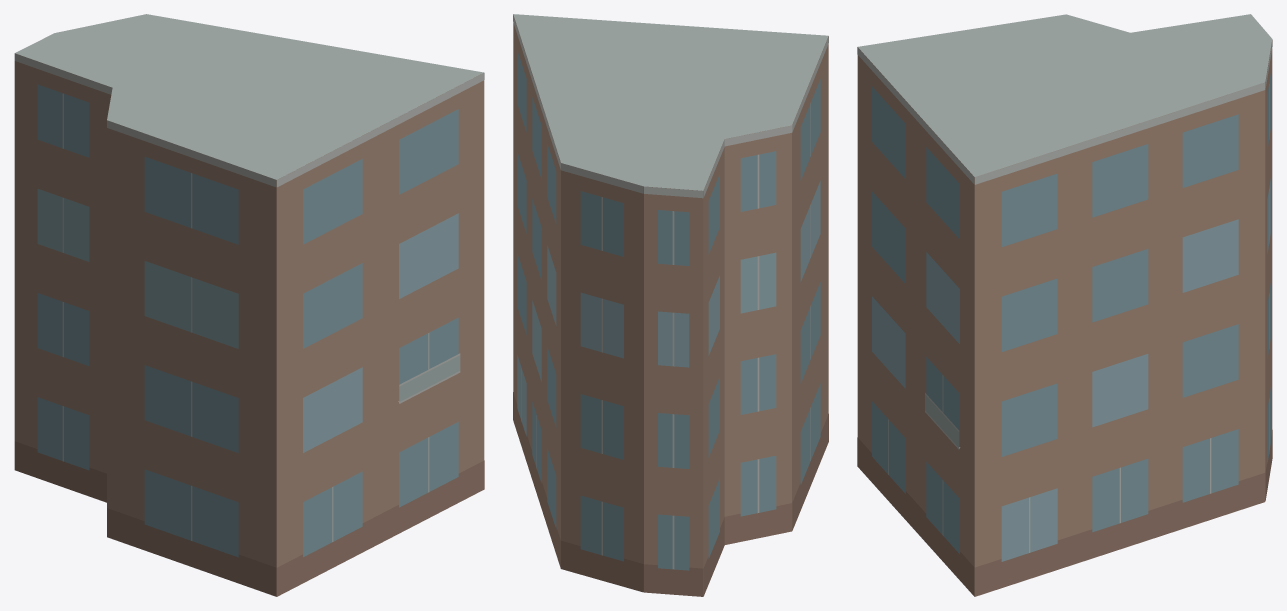
Rendered from survey-upis-32968166.glb.
3 renders of one model, left to right at view 1: azimuth 30°, elevation 25°; view 2: azimuth 150°, elevation 25°; view 3: azimuth 270°, elevation 25°, orthographic. The views are drawn at different scales.
Parts seen in each view (by area): view 1: survey-upis-32968166.tmp; view 2: survey-upis-32968166.tmp; view 3: survey-upis-32968166.tmp.
Part boxes in pixels (left/top/right/bottom): survey-upis-32968166.tmp: left=14, top=14, right=484, bottom=596; survey-upis-32968166.tmp: left=513, top=14, right=828, bottom=596; survey-upis-32968166.tmp: left=857, top=14, right=1272, bottom=596.
Size of the model in its own units: 11.18 by 13.39 by 12.01.
